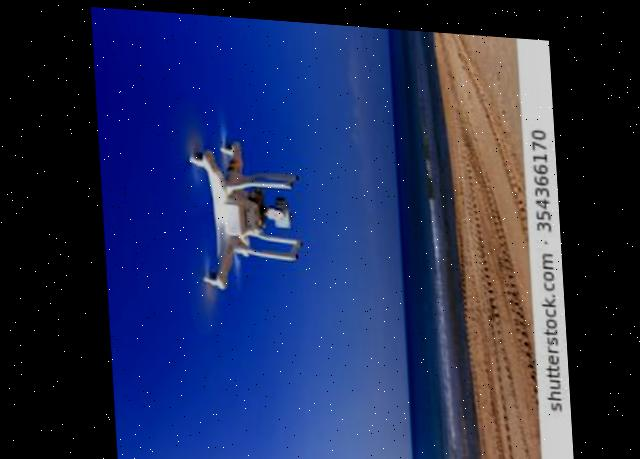drone: (132, 85, 330, 330)
